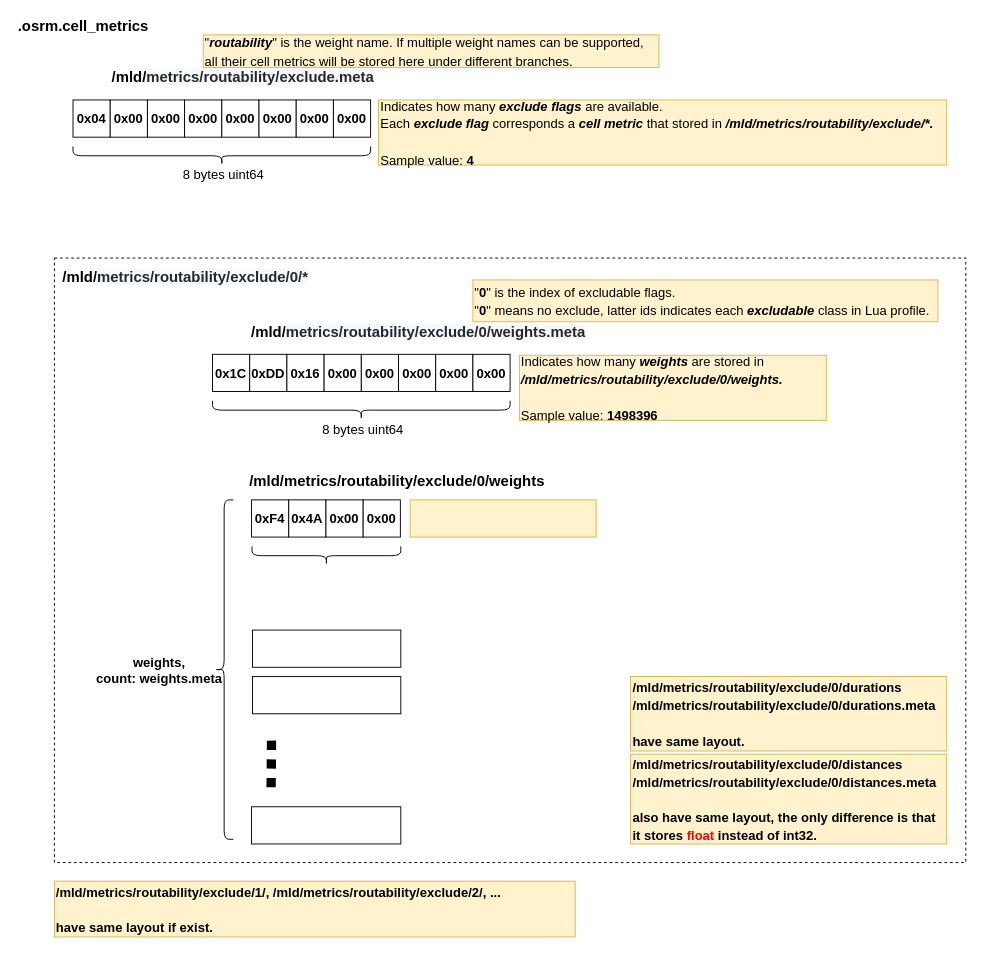
Image size: 982x953. Some labels were removed from this diagram. The box of each missing label's shape, as (x1, y1, x2, y2) in pixels:
4 bytes int32 weight: (251, 545, 401, 565)
Sample values: - weight: 19188: (409, 499, 596, 537)
